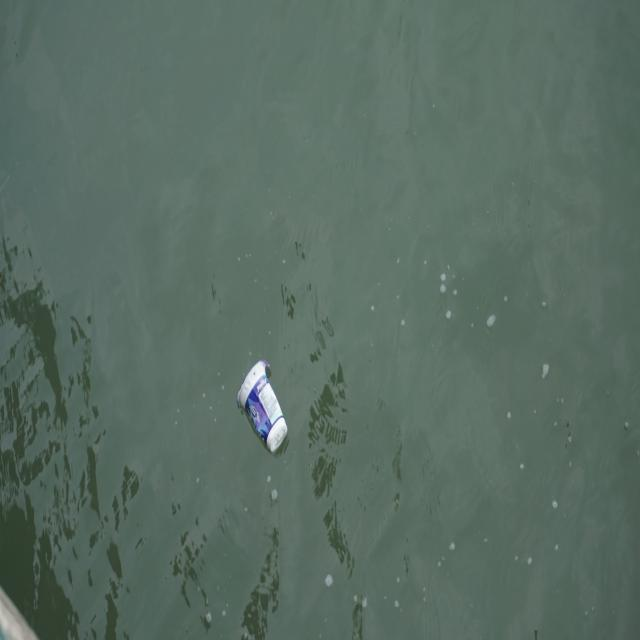Bungkus Minuman: (234, 355, 291, 457)
